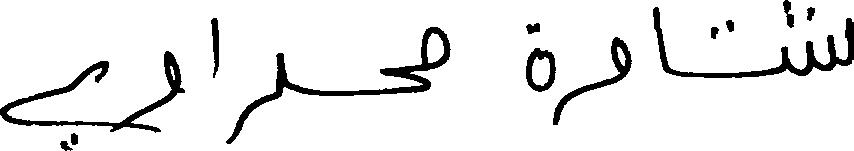X: (0, 56, 108, 150), (228, 48, 285, 148), (140, 46, 182, 137), (806, 2, 853, 79), (526, 18, 554, 129), (422, 22, 448, 96), (379, 60, 420, 99), (556, 81, 583, 129), (612, 32, 630, 88), (654, 2, 667, 77), (210, 13, 218, 82), (782, 0, 787, 76)
